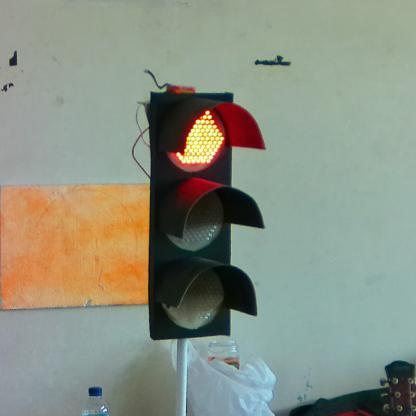red: (148, 90, 260, 338)
